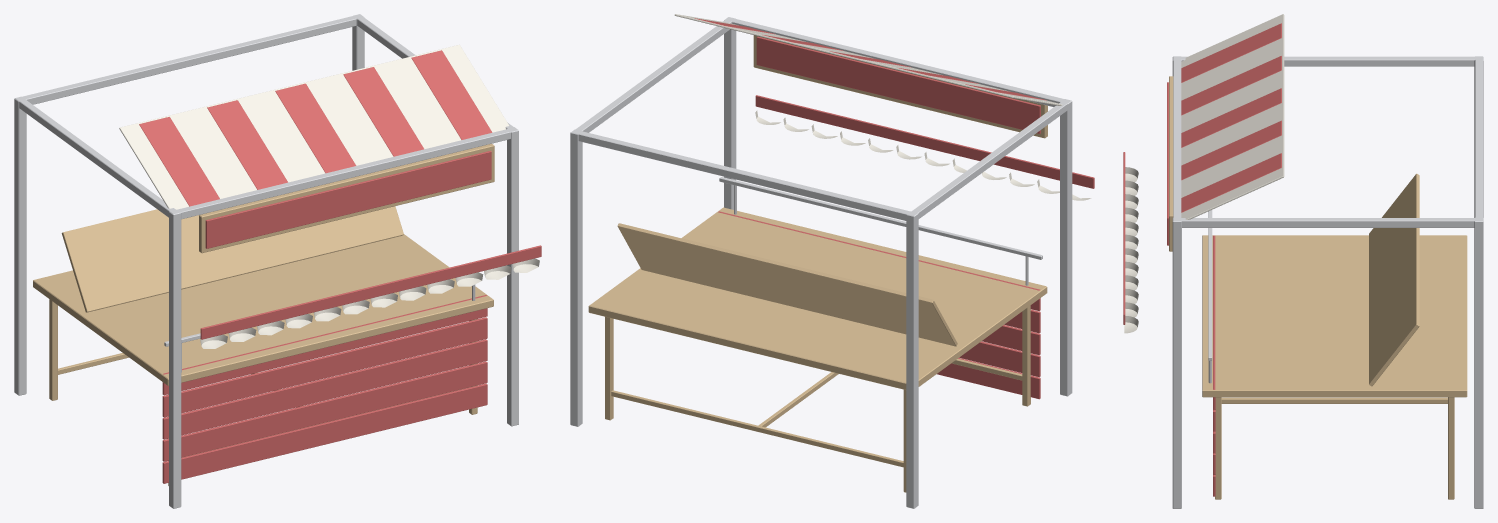
Rendered from indoor-market-hall-and-traders-open-stall-unit-5124bc70.glb.
The picture shows the model from 3 angles, left to right: view 1: azimuth 30°, elevation 25°; view 2: azimuth 150°, elevation 25°; view 3: azimuth 270°, elevation 25°; orthographic projection. The views are drawn at different scales.
Visible parts, largest first — view 1: open-stall-unit; view 2: open-stall-unit; view 3: open-stall-unit.
Part boxes in pixels (<box>): open-stall-unit: <box>14,14,541,508</box>; open-stall-unit: <box>570,14,1094,508</box>; open-stall-unit: <box>1123,14,1483,508</box>.
Bounding box in the file's own units: 2.95 × 2.76 × 2.72.
